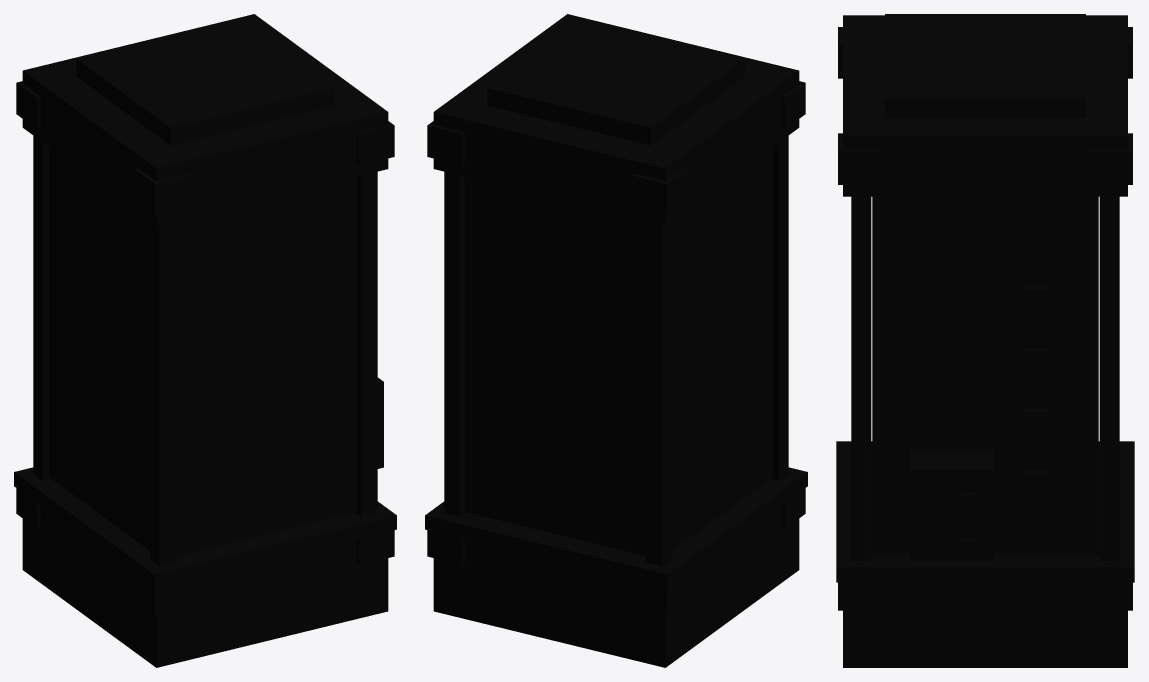
File: incubator.obj
3 views of the same model, side by side, from view 1: azimuth 30°, elevation 25°; view 2: azimuth 150°, elevation 25°; view 3: azimuth 270°, elevation 25° (orthographic). The views are drawn at different scales.
Bounding box in the file's own units: 0.4743 × 0.875 × 0.4297.
